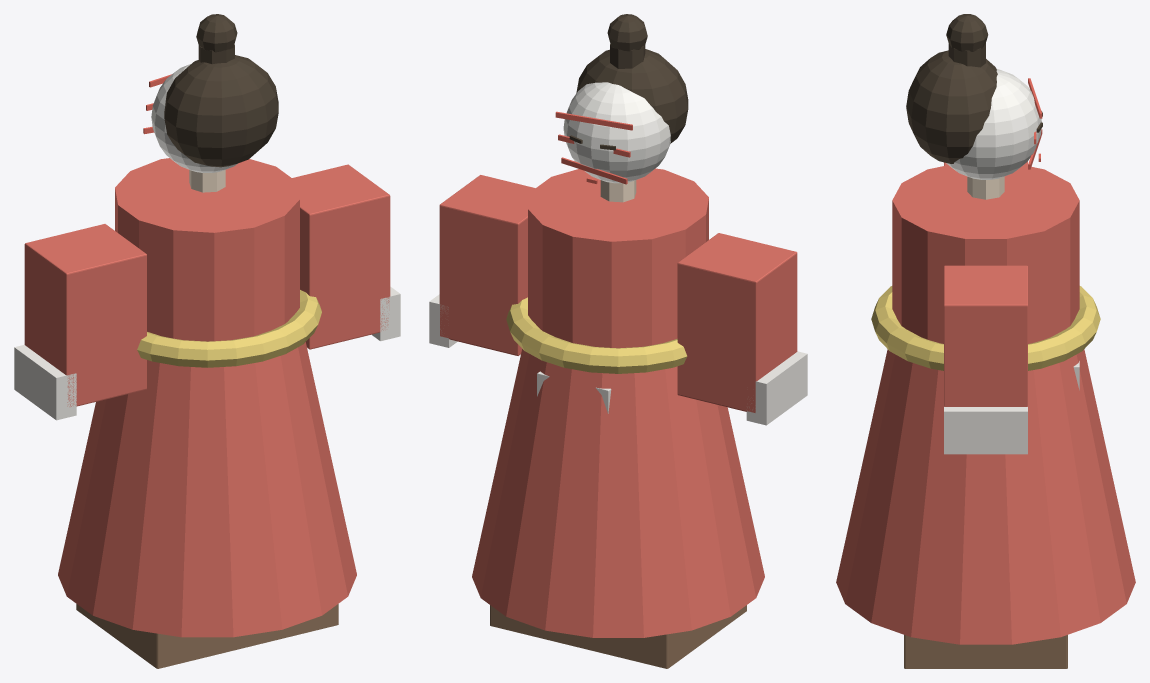
The model's file is kabuki_doll.glb.
The picture shows the model from 3 angles, left to right: view 1: azimuth 30°, elevation 25°; view 2: azimuth 150°, elevation 25°; view 3: azimuth 270°, elevation 25°; orthographic projection. The views are drawn at different scales.
Visible parts, largest first — view 1: kabuki_doll; view 2: kabuki_doll; view 3: kabuki_doll.
Part boxes in pixels (x1,y1,x2,y2): kabuki_doll: [14, 14, 400, 668]; kabuki_doll: [429, 14, 807, 668]; kabuki_doll: [836, 14, 1135, 668].
Size of the model in its own units: 0.85 by 1.43 by 0.64.
